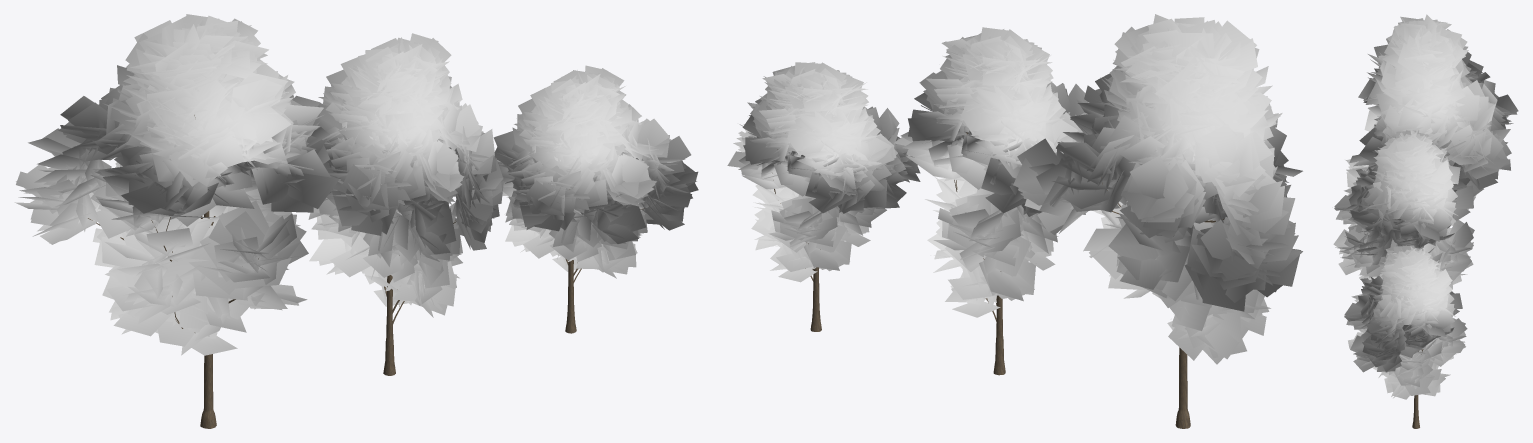
Rendered from Tall_Trees_2A.fbx.
The picture shows the model from 3 angles, left to right: view 1: azimuth 30°, elevation 25°; view 2: azimuth 150°, elevation 25°; view 3: azimuth 270°, elevation 25°; orthographic projection. The views are drawn at different scales.
Parts seen in each view (by area): view 1: Tall_Tree_2A1, Tall_Tree_2A2, Tall_Tree_2A3; view 2: Tall_Tree_2A1, Tall_Tree_2A2, Tall_Tree_2A3; view 3: Tall_Tree_2A1, Tall_Tree_2A2, Tall_Tree_2A3.
Boxes of the visible parts, left/top/right/bottom form: Tall_Tree_2A1: left=14, top=14, right=339, bottom=428; Tall_Tree_2A2: left=308, top=33, right=503, bottom=375; Tall_Tree_2A3: left=493, top=65, right=698, bottom=333; Tall_Tree_2A1: left=1013, top=14, right=1302, bottom=428; Tall_Tree_2A2: left=894, top=27, right=1088, bottom=375; Tall_Tree_2A3: left=727, top=62, right=920, bottom=331; Tall_Tree_2A1: left=1345, top=14, right=1518, bottom=225; Tall_Tree_2A2: left=1333, top=128, right=1474, bottom=284; Tall_Tree_2A3: left=1344, top=245, right=1467, bottom=428.
Bounding box in the file's own units: 4245 × 2680 × 1600.
